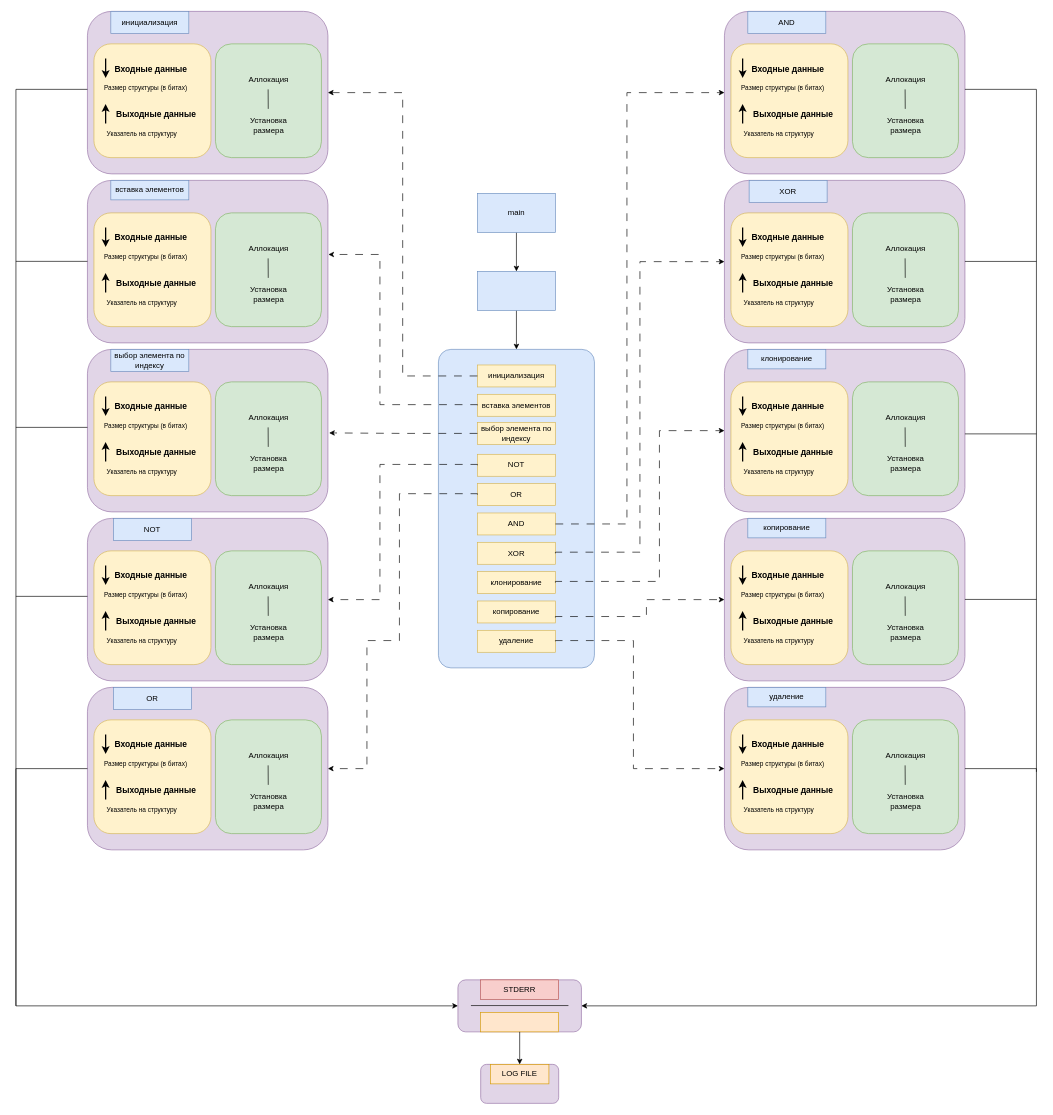
The diagram is 1053 pixels wide and 1115 high, and some of its shapes have lost their labels. Each missing label, with the centre of its shape:
bitmap: (516,290)
LOGGER: (519,1022)
